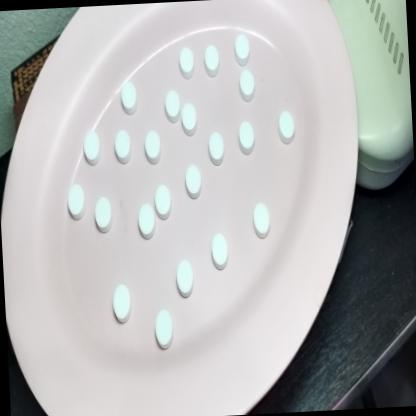Paracetamol: (109, 282, 134, 326), (153, 307, 175, 352), (64, 183, 87, 226), (134, 200, 156, 243), (92, 195, 115, 236), (173, 258, 196, 298), (80, 127, 102, 168), (209, 230, 230, 272), (183, 162, 204, 204), (152, 182, 173, 223), (250, 199, 272, 238), (110, 127, 132, 166), (118, 79, 139, 118), (141, 128, 162, 166), (180, 101, 200, 140), (161, 86, 181, 124), (276, 108, 296, 146), (236, 119, 256, 157), (206, 128, 226, 166), (202, 40, 221, 78), (236, 67, 256, 102), (232, 30, 251, 66)
